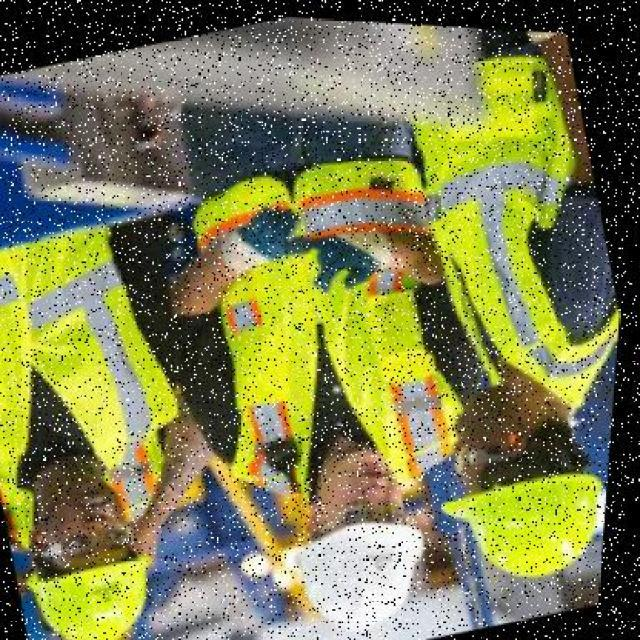helmet: (270, 476, 473, 639), (434, 433, 616, 598), (25, 525, 191, 639)
vest: (159, 117, 479, 525), (365, 28, 638, 444), (0, 220, 207, 518)
